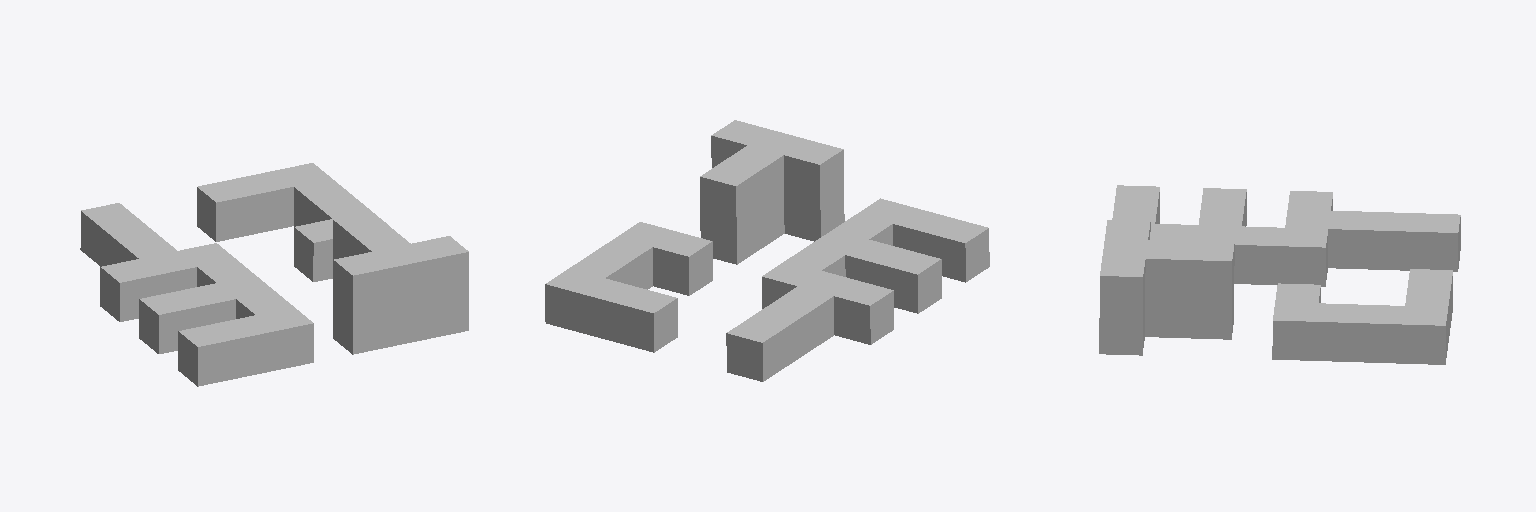
The model's file is LazerGun.obj.
3 views of the same model, side by side, from view 1: azimuth 30°, elevation 25°; view 2: azimuth 150°, elevation 25°; view 3: azimuth 270°, elevation 25° (orthographic).
Parts seen in each view (by area): view 1: FF0000; view 2: FF0000; view 3: FF0000.
Boxes of the visible parts, x1=… form: FF0000: x1=80, y1=163, x2=468, y2=386; FF0000: x1=545, y1=120, x2=989, y2=381; FF0000: x1=1099, y1=185, x2=1460, y2=364.
Size of the model in its own units: 7.45 by 2.08 by 8.34.